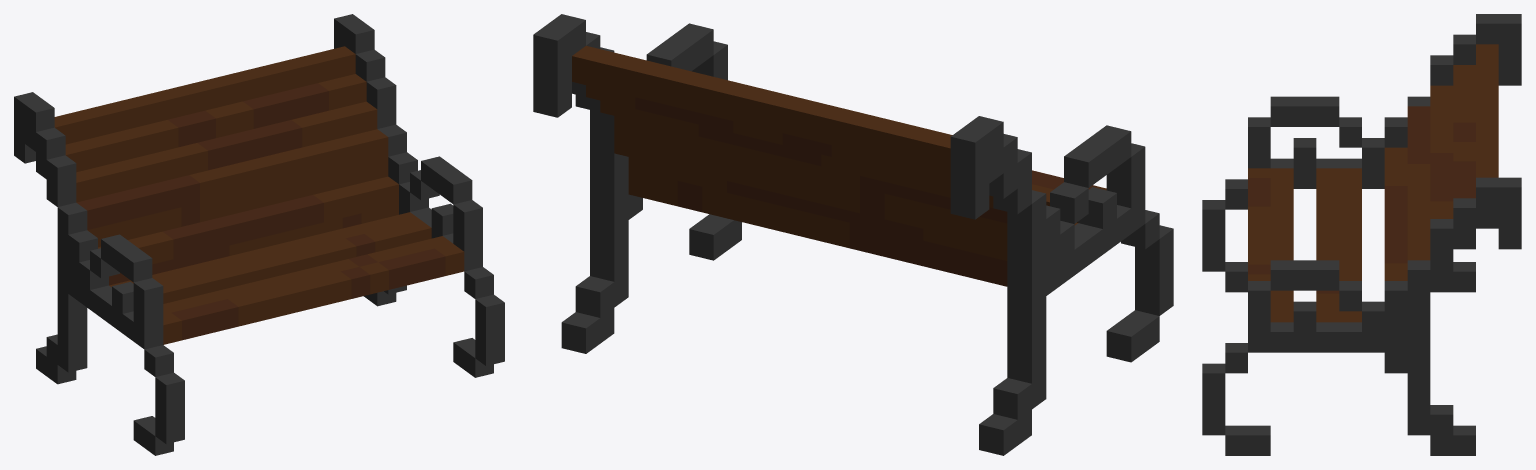
Rendered from TESTOWANIE_VOXELA-8.obj.
3 renders of one model, left to right at view 1: azimuth 30°, elevation 25°; view 2: azimuth 150°, elevation 25°; view 3: azimuth 270°, elevation 25°, orthographic. The views are drawn at different scales.
Size of the model in its own units: 1.8 by 1.3 by 1.4.
Materials: 1 (1 with a texture image).
